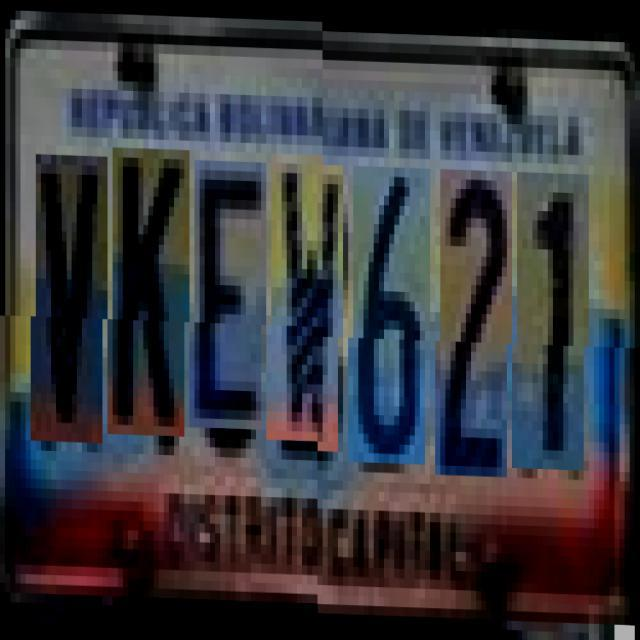1: (517, 168, 589, 466)
2: (440, 165, 512, 474)
6: (353, 164, 430, 462)
E: (194, 168, 266, 438)
K: (112, 156, 190, 445)
V: (36, 163, 108, 452)
W: (271, 160, 343, 450)
